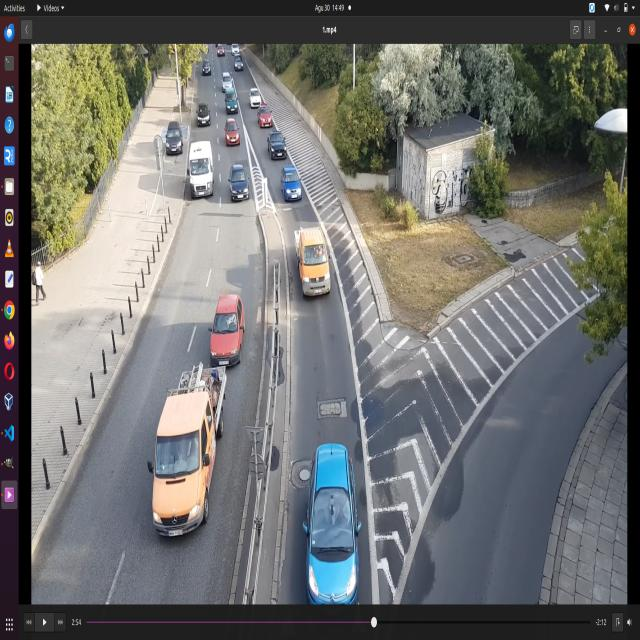person_with_seatbelt: (332, 494, 352, 528), (225, 303, 239, 330), (313, 247, 328, 262)
